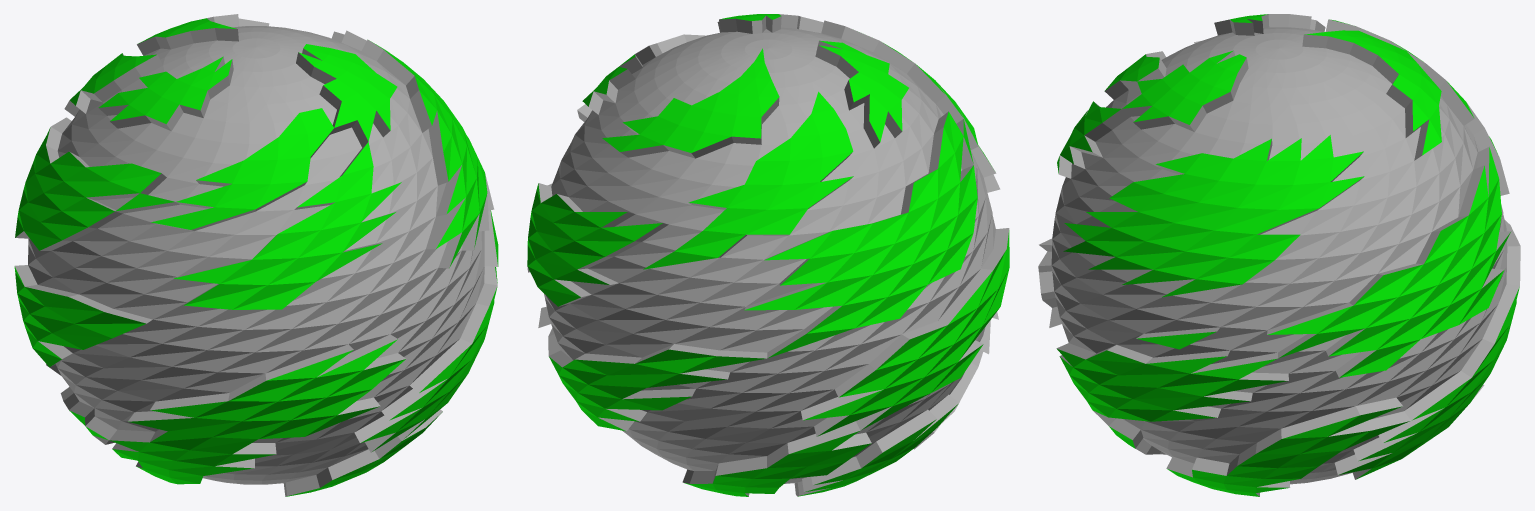
File: planet 2.fbx
The picture shows the model from 3 angles, left to right: view 1: azimuth 30°, elevation 25°; view 2: azimuth 150°, elevation 25°; view 3: azimuth 270°, elevation 25°; orthographic projection.
Visible parts, largest first — view 1: pSphere4; view 2: pSphere4; view 3: pSphere4.
Boxes of the visible parts, left/top/right/bottom form: pSphere4: left=14, top=14, right=498, bottom=496; pSphere4: left=527, top=14, right=1009, bottom=496; pSphere4: left=1038, top=14, right=1520, bottom=496.
Size of the model in its own units: 4.52 by 4.4 by 4.5.
